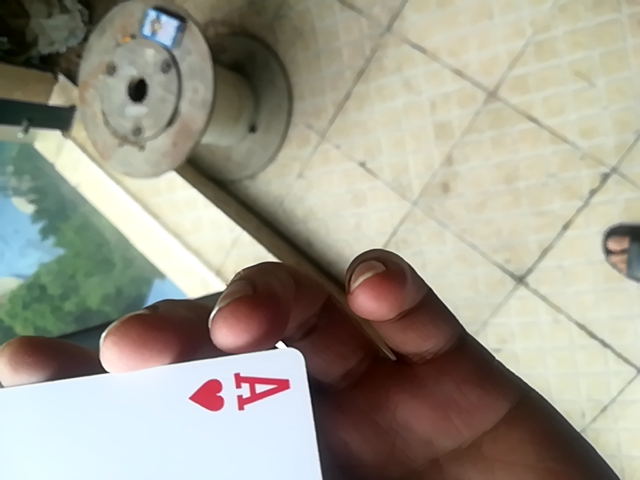hx a: (0, 345, 327, 480)
